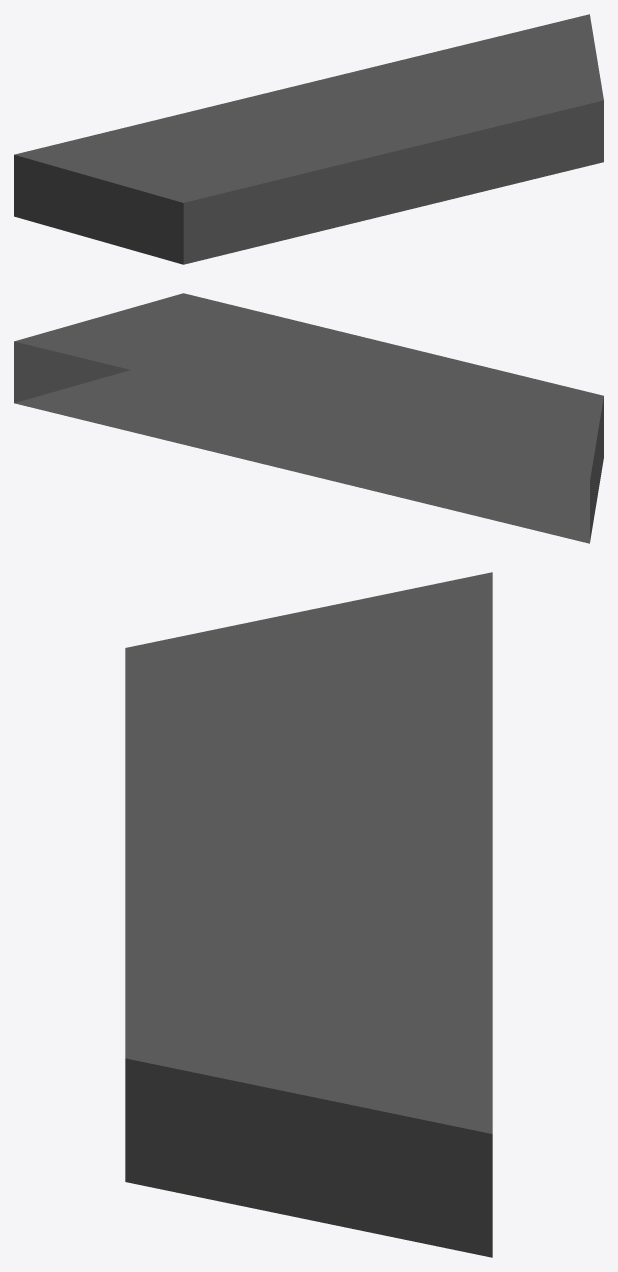
The model's file is Pfb_Soda_ExhaustSystem1__2.fbx.
3 views of the same model, one above another, from view 1: azimuth 30°, elevation 25°; view 2: azimuth 150°, elevation 25°; view 3: azimuth 270°, elevation 25° (orthographic). The views are drawn at different scales.
Parts seen in each view (by area): view 1: MAT_Soda_Pipe 3; view 2: MAT_Soda_Pipe 3; view 3: MAT_Soda_Pipe 3.
Part boxes in pixels (<box>): MAT_Soda_Pipe 3: <box>14,14,603,264</box>; MAT_Soda_Pipe 3: <box>14,293,603,543</box>; MAT_Soda_Pipe 3: <box>125,572,492,1257</box>.
Bounding box in the file's own units: 0.8462 × 0.0868 × 0.2338.
Materials: 1 (1 with a texture image).
